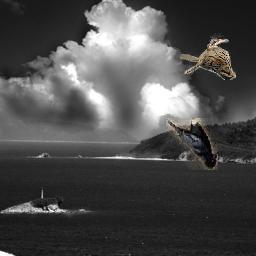Crow: (166, 118, 218, 170)
Sparrow: (180, 34, 237, 81)
